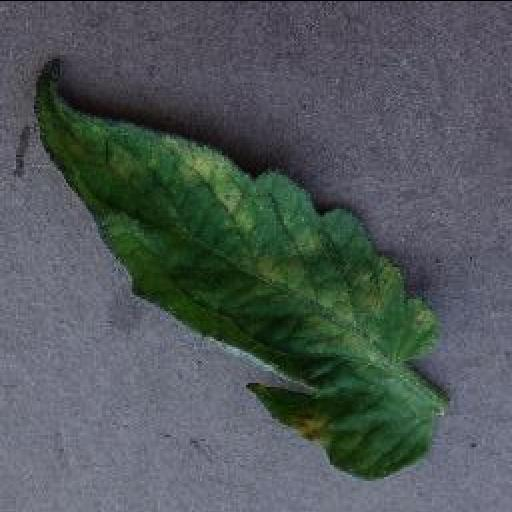disease_tomato: (34, 64, 444, 480)
